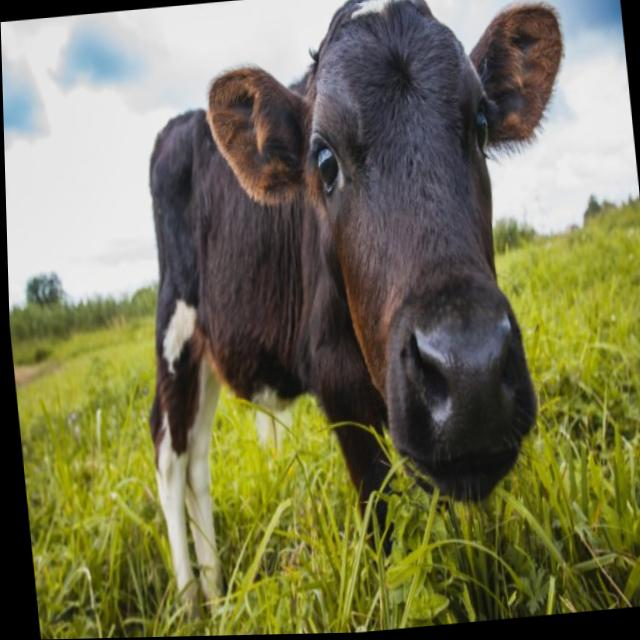cowFace: (190, 0, 610, 538)
